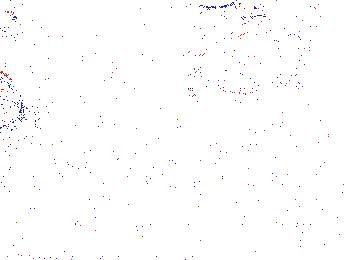moon jellyfish: (192, 17, 312, 96), (26, 5, 143, 58), (1, 72, 25, 134)
